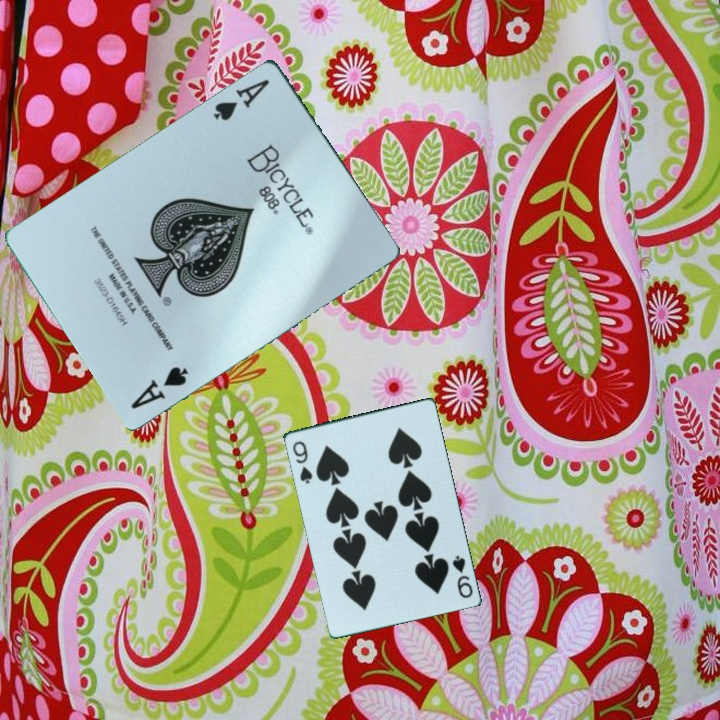9s: (448, 551, 475, 601), (289, 437, 315, 486)
As: (209, 74, 273, 124), (127, 362, 191, 412)
